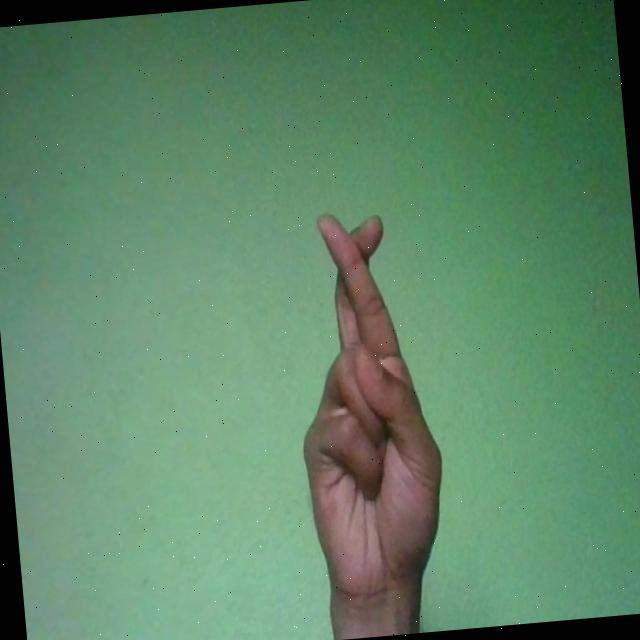Ok: (282, 204, 454, 610)
